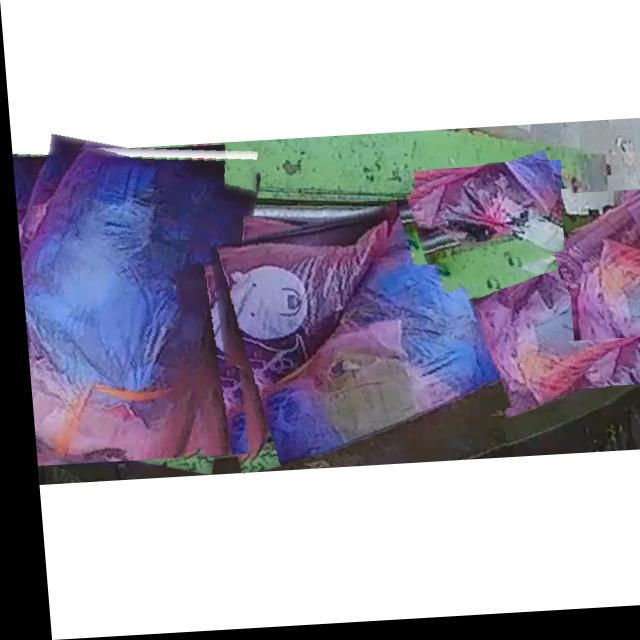other_trashbag: (18, 148, 254, 464), (241, 204, 494, 475), (471, 226, 640, 413), (218, 223, 414, 368), (409, 169, 569, 261), (563, 203, 640, 348)
